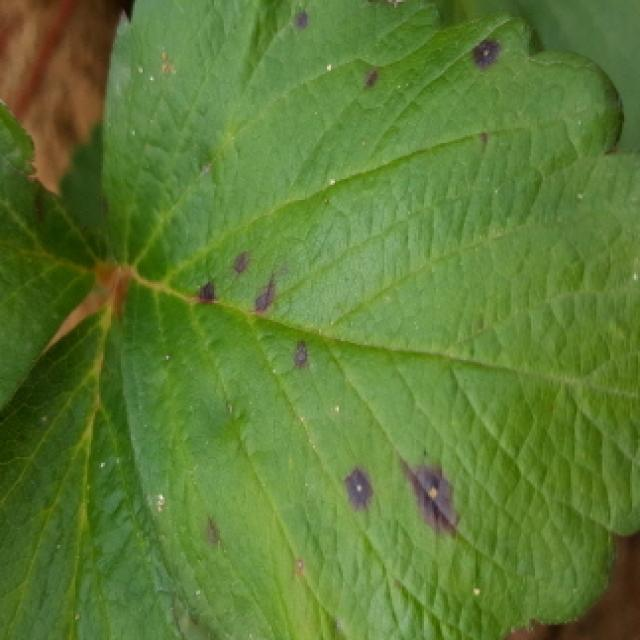Leaf Spot: (100, 0, 640, 640), (0, 299, 212, 640), (0, 96, 107, 414), (429, 0, 640, 153)
